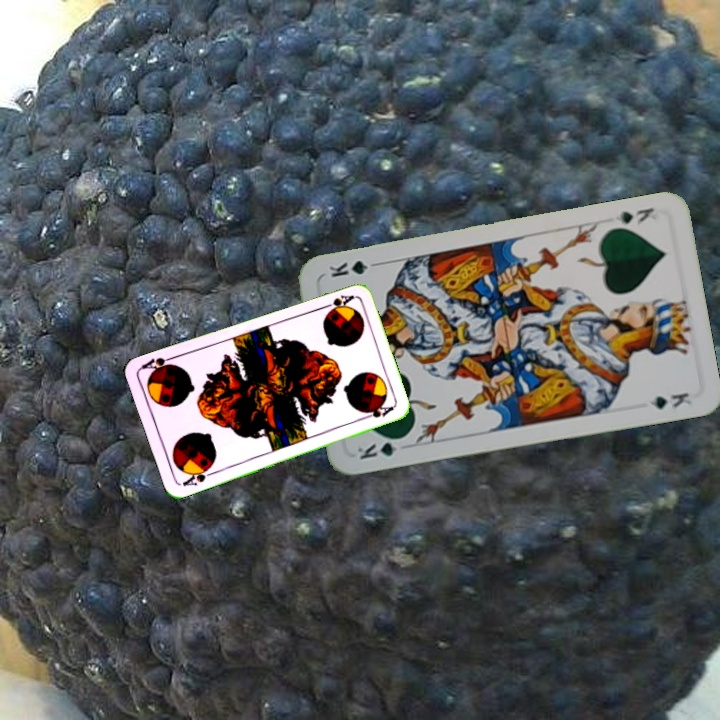GK: (353, 433, 409, 462), (611, 203, 656, 227)
SA: (178, 462, 218, 489), (317, 291, 356, 315)
